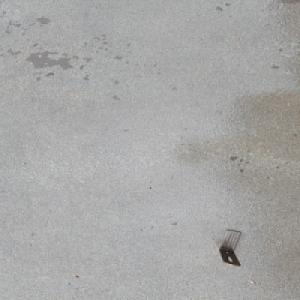MetalPart: (217, 229, 242, 267)
